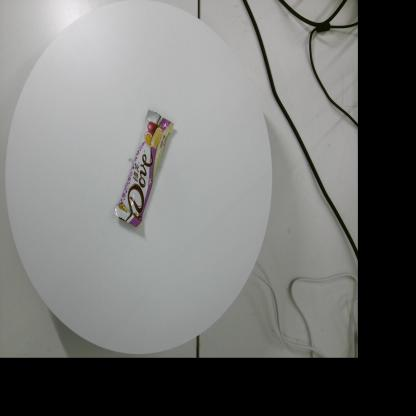Chocolate: (113, 109, 174, 228)
